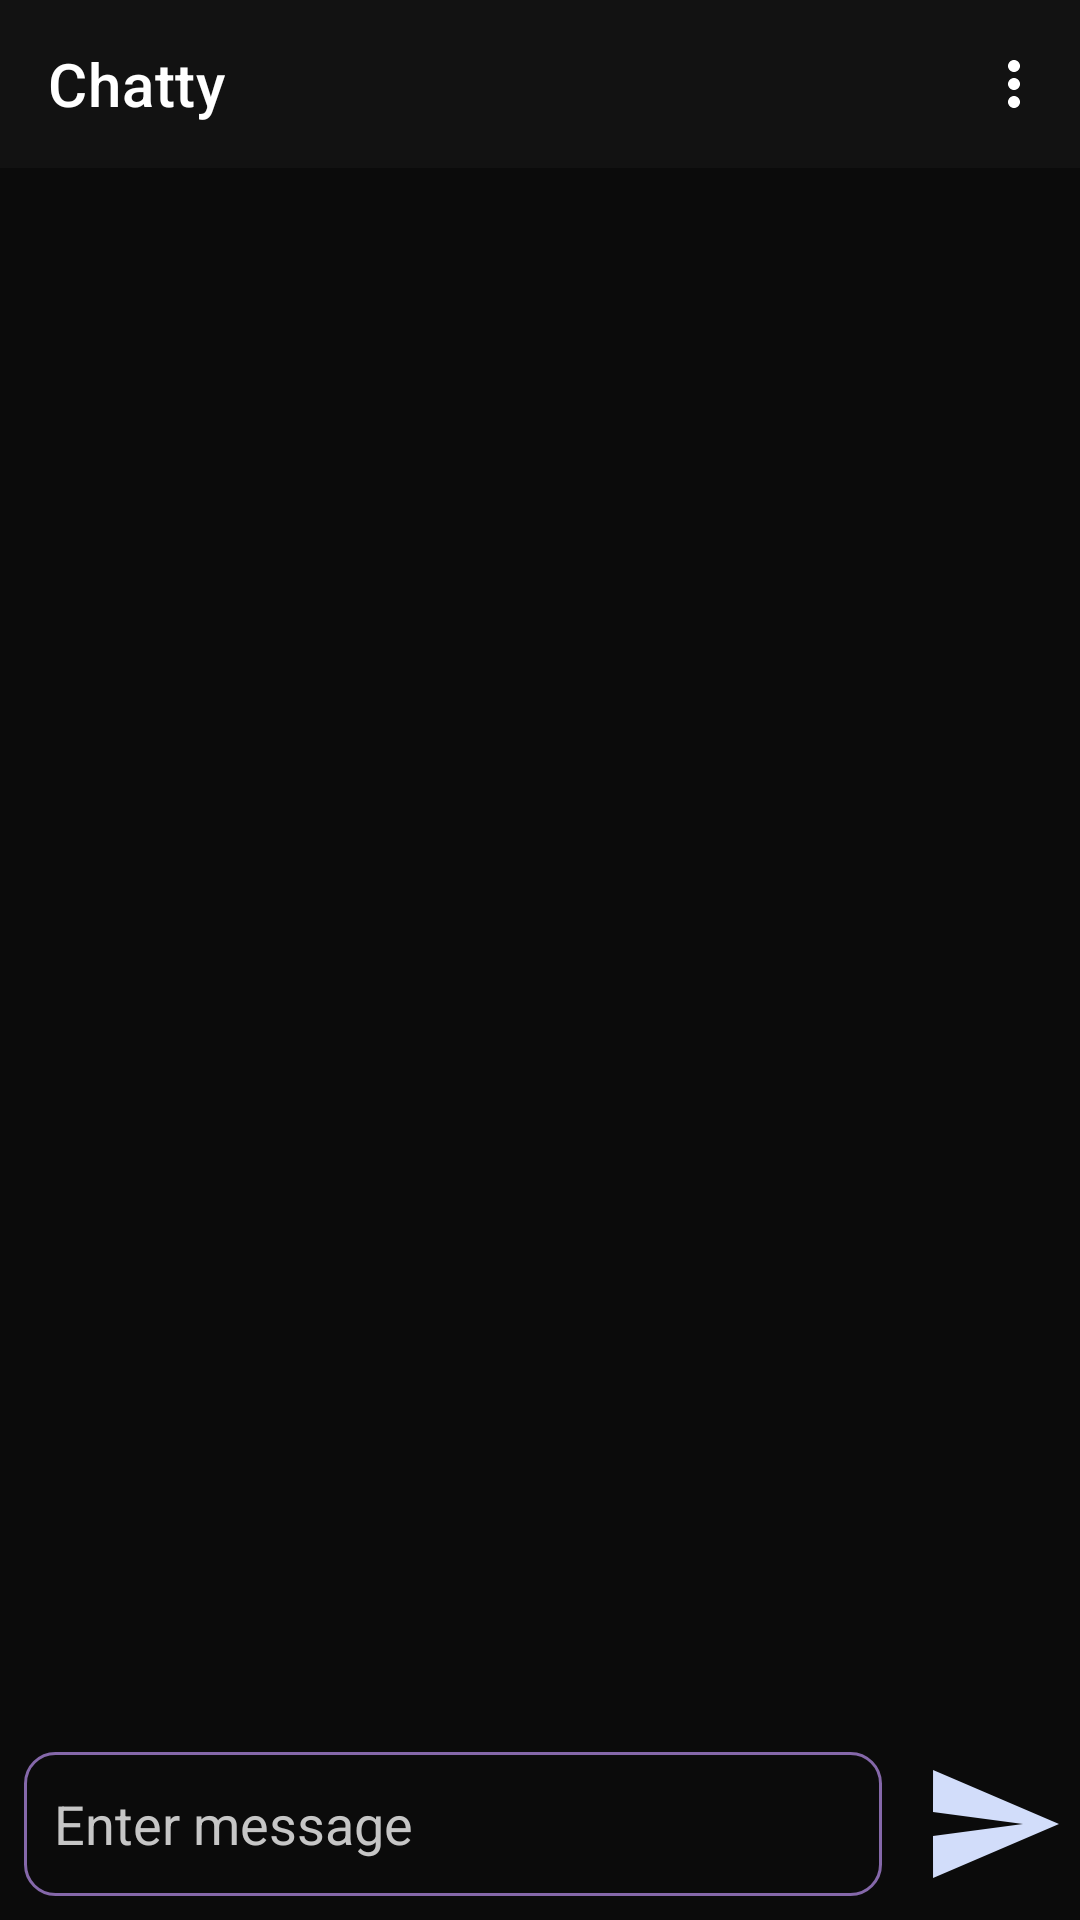

Icons on this 1080*1920 Android screen, each with the point to tap as point (x, y):
send: point (996, 1824)
